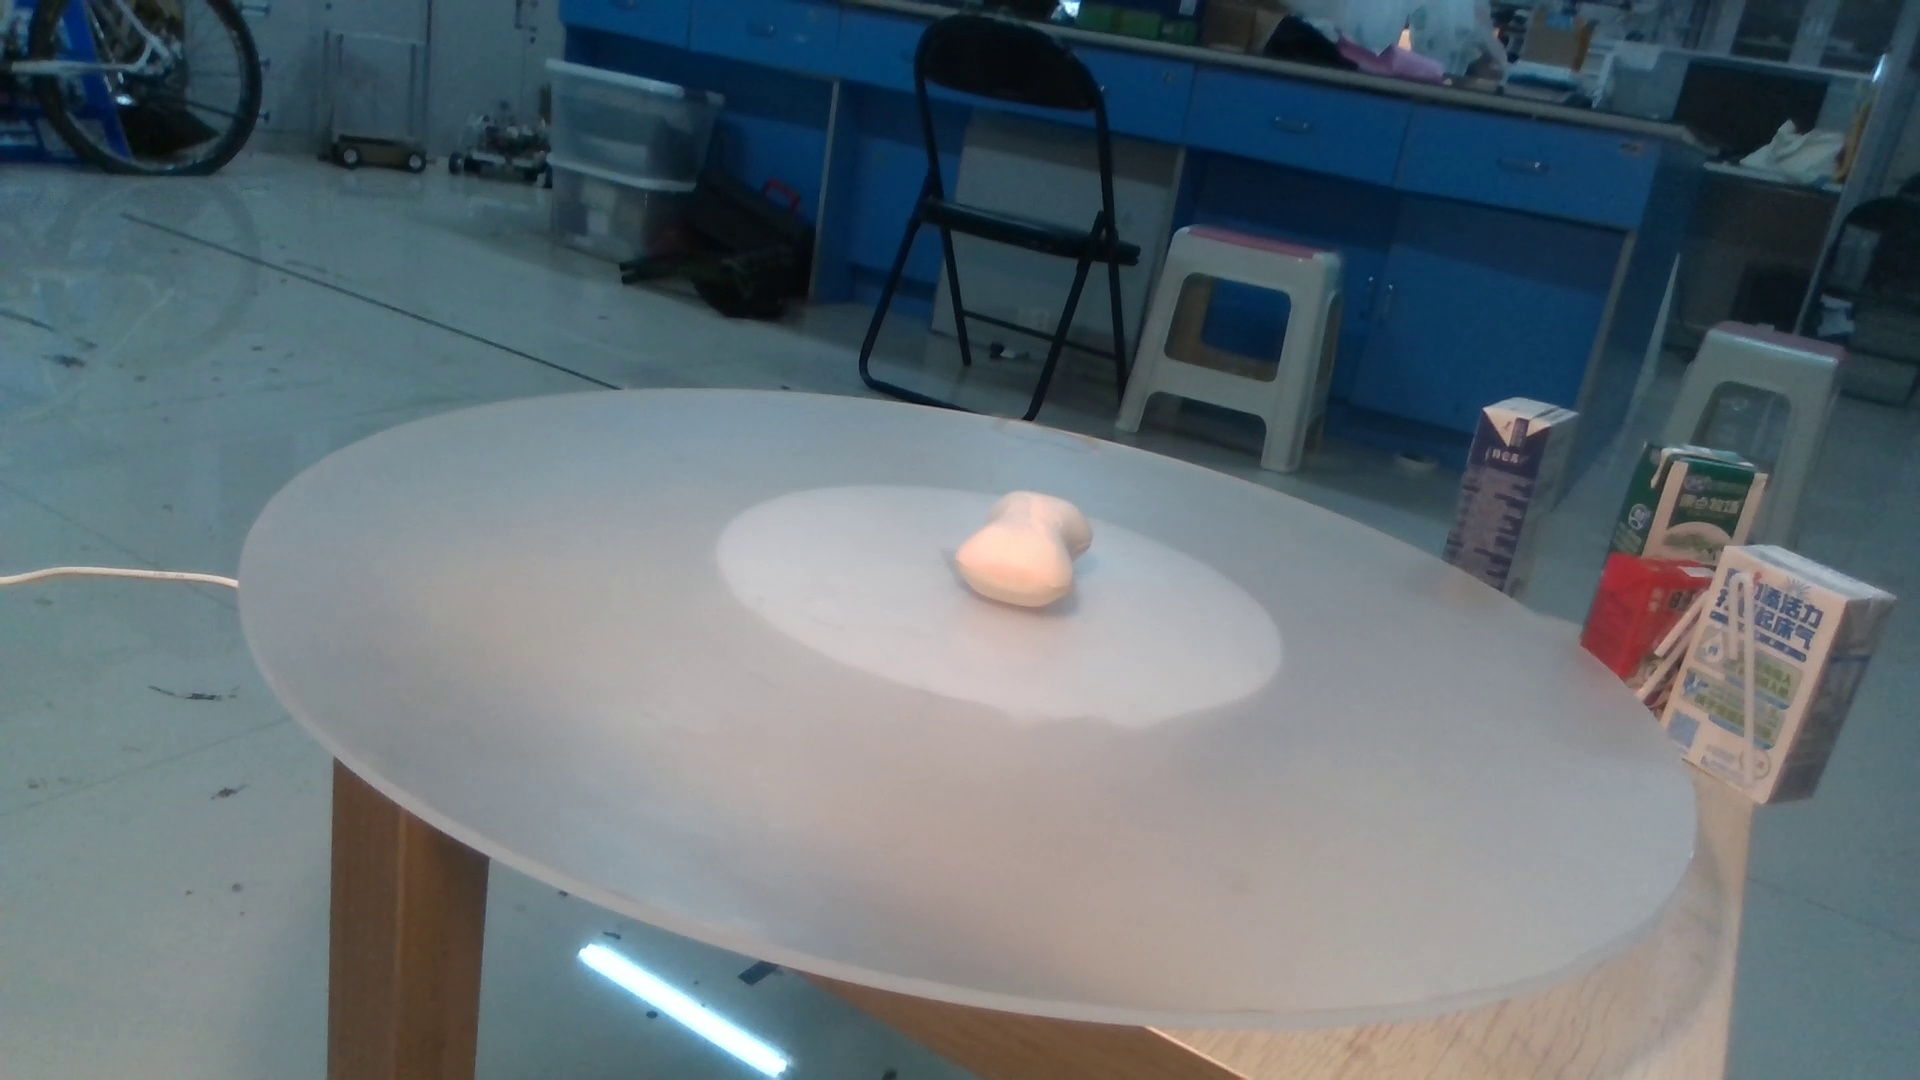CA003_1: (932, 465, 1121, 644)
